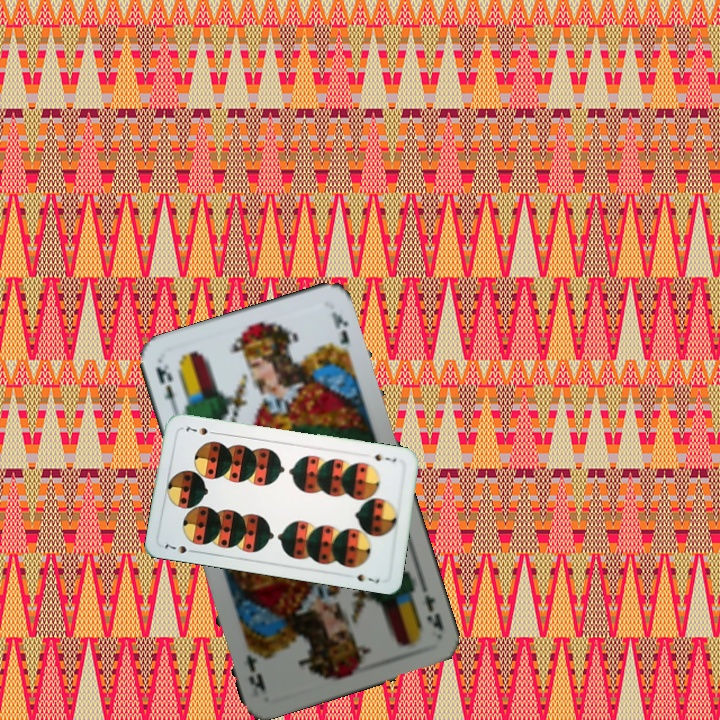EK: (152, 359, 181, 417), (418, 581, 446, 634)
S7: (160, 540, 199, 556), (371, 450, 399, 465)
